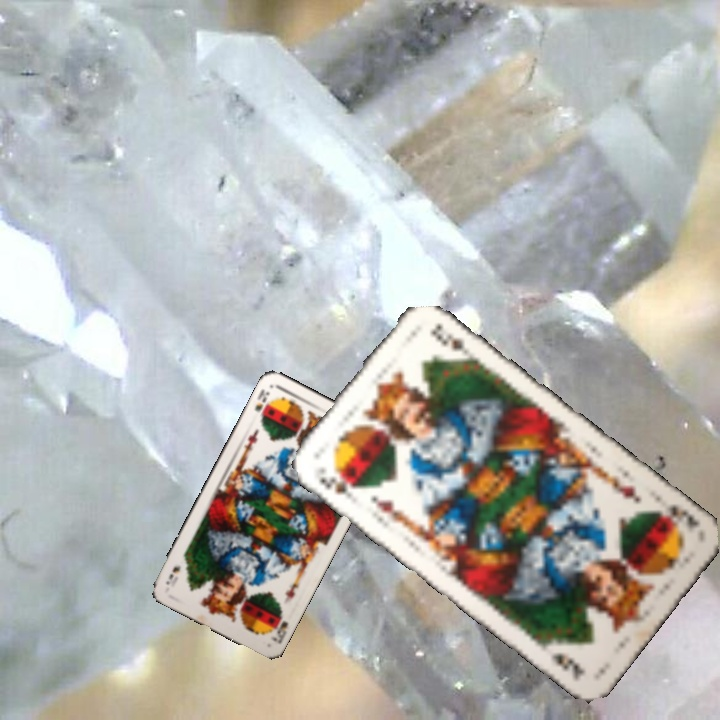SK: (649, 499, 704, 531), (314, 467, 360, 503), (266, 606, 291, 646), (250, 385, 272, 414)
